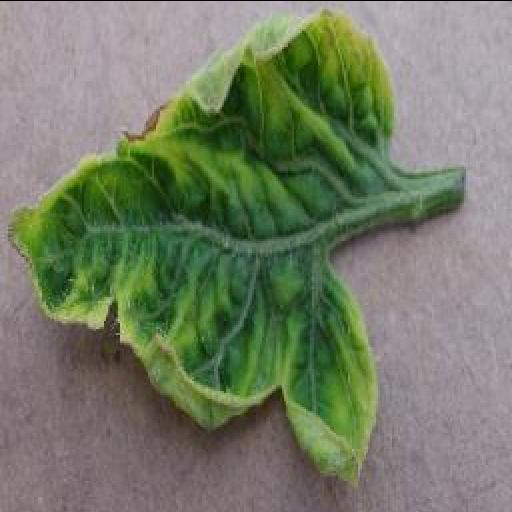disease_tomato: (8, 6, 398, 496)
